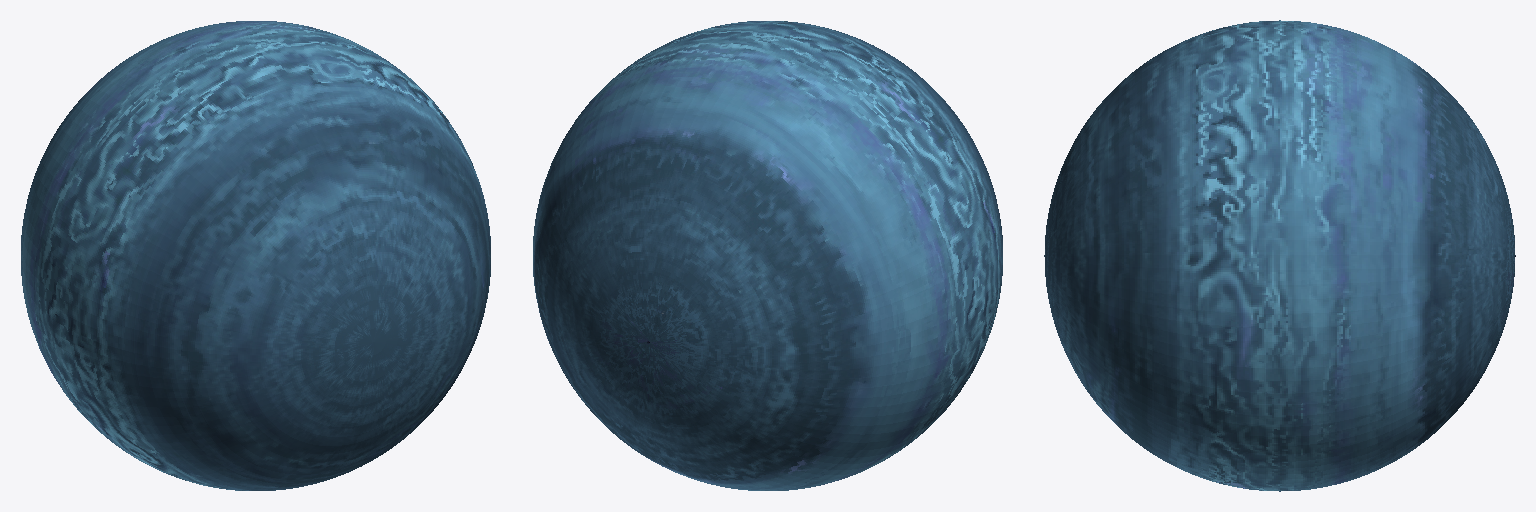
3 views of the same model, side by side, from view 1: azimuth 30°, elevation 25°; view 2: azimuth 150°, elevation 25°; view 3: azimuth 270°, elevation 25° (orthographic).
Visible parts, largest first — view 1: Sphere001; view 2: Sphere001; view 3: Sphere001.
Part boxes in pixels (left/top/right/bottom): Sphere001: left=21, top=21, right=490, bottom=490; Sphere001: left=533, top=21, right=1002, bottom=490; Sphere001: left=1044, top=20, right=1515, bottom=491.
Size of the model in its own units: 100 by 100 by 100.
1 materials, 1 textured.